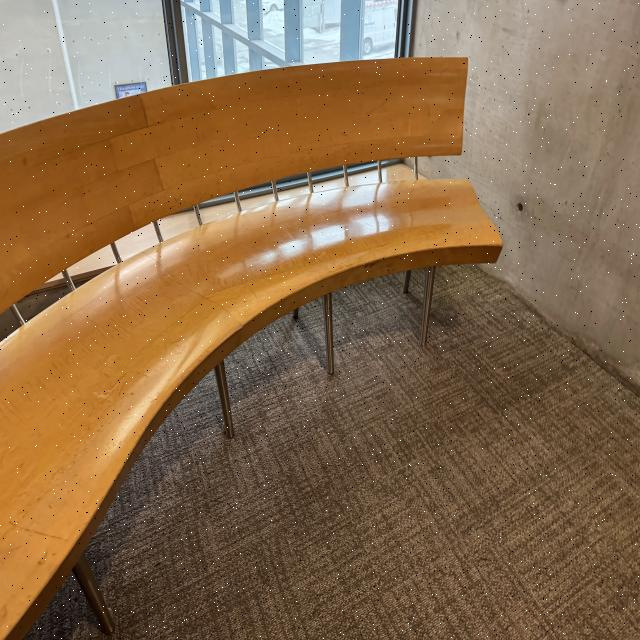Bench: (4, 44, 490, 632)
